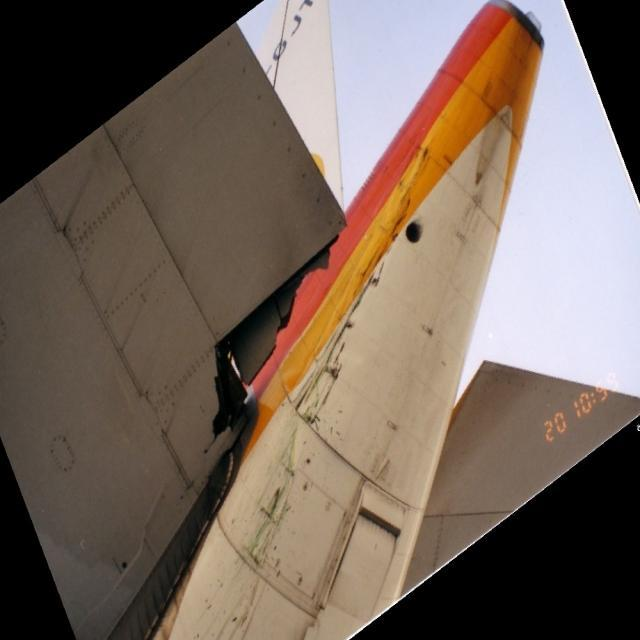crack: (204, 226, 353, 462)
